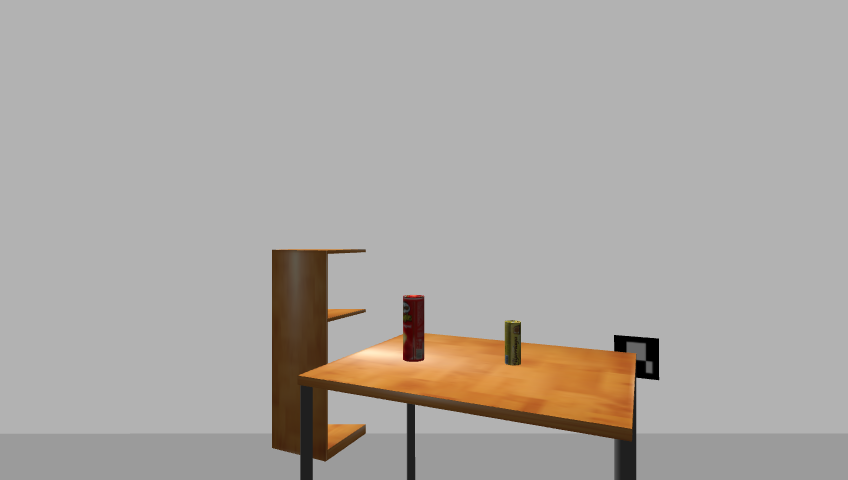aruco marker: (610, 333, 664, 382)
biscuits pack: (504, 320, 522, 367)
bookshelf: (267, 246, 371, 463)
dinner table: (289, 332, 646, 480)
pringles can: (400, 294, 427, 364)
